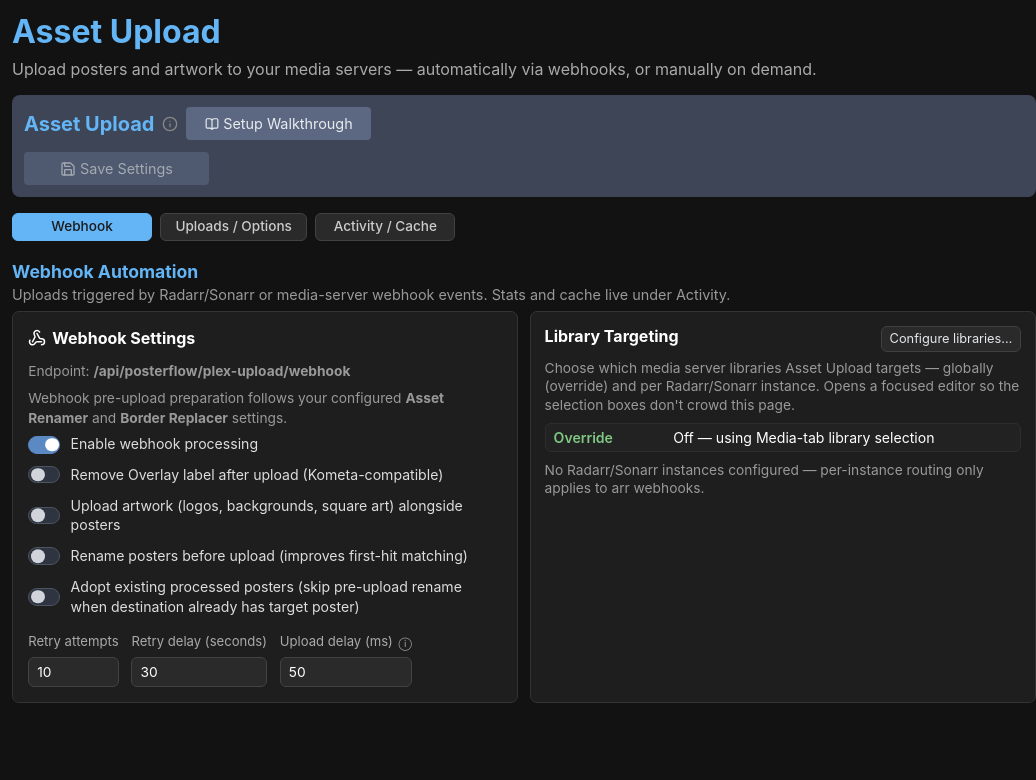
Test: PlexUpload › offers one toolbar Save per sub-tab, disabled until dirty
Expected: the button "Save Settings" is disabled, top-left (24, 152), bottom-right (209, 185)
Expected: the button with class "btn-toolbar" showing "Setup Walkthrough" is shown, top-left (186, 107), bottom-right (371, 140)
Click the checkbox labelled "Adopt existing processed posters": (44, 597) top-left (28, 588), bottom-right (60, 606)
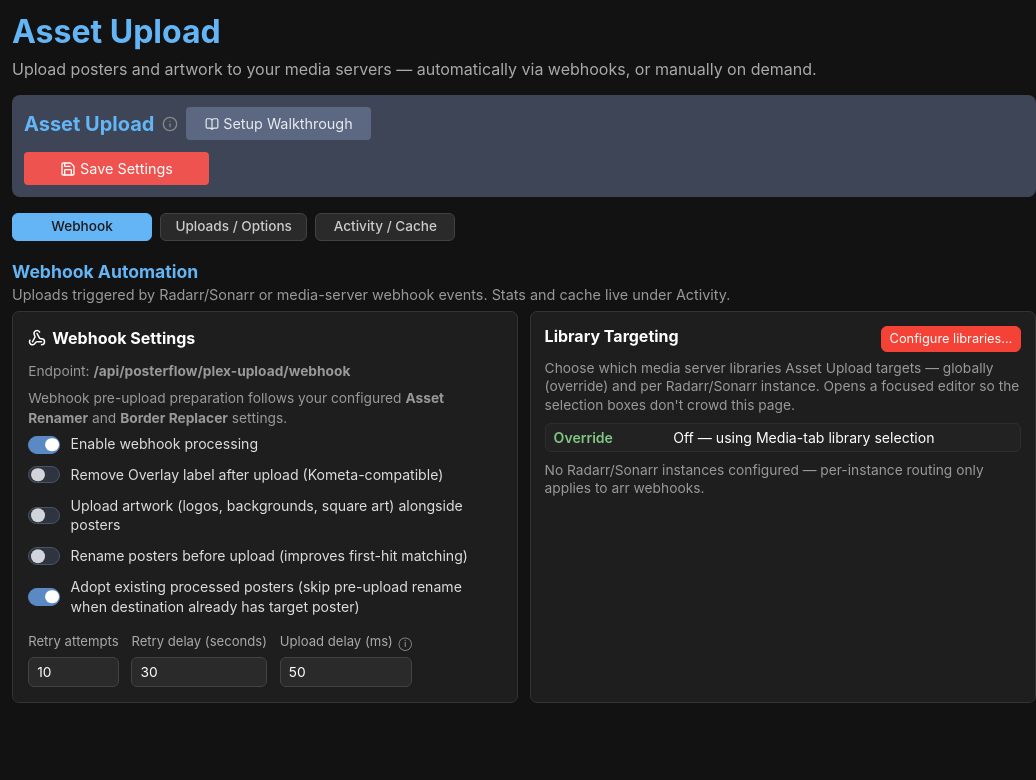
Expected: the button "Save Settings" is enabled, top-left (24, 152), bottom-right (209, 185)
